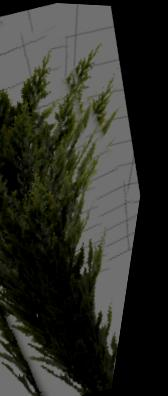tree_gazebo: (0, 65, 127, 394)
